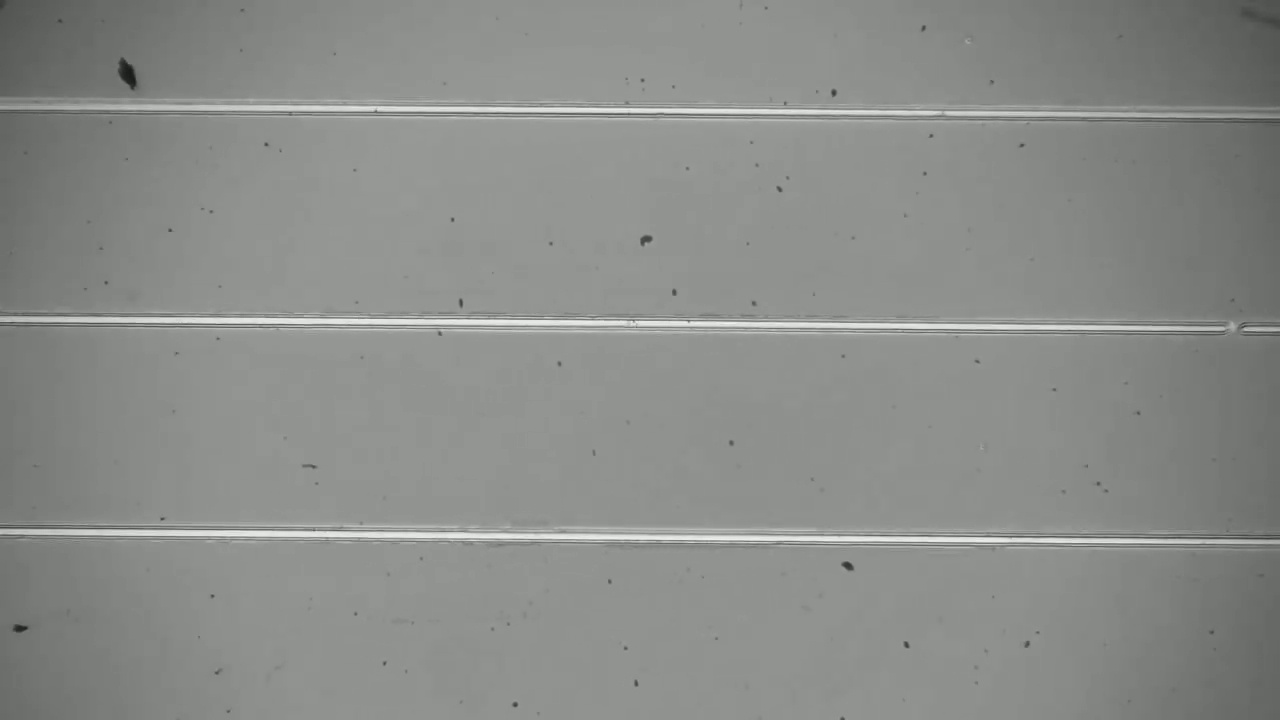open: (1208, 313, 1255, 344)
